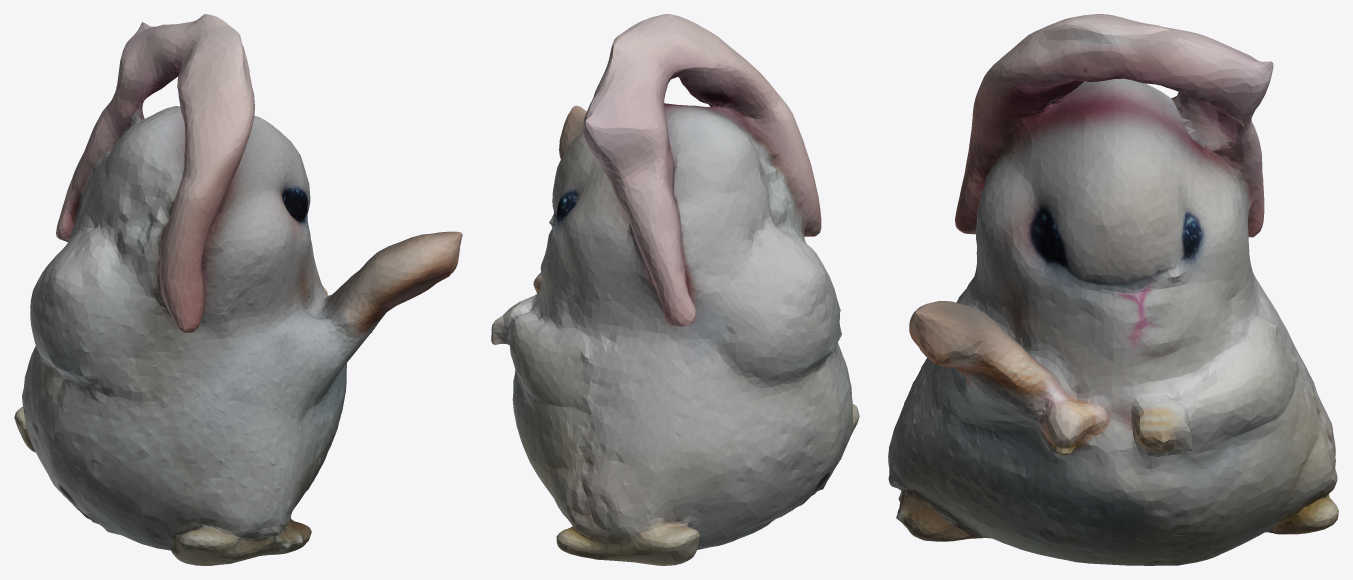
3 renders of one model, left to right at view 1: azimuth 30°, elevation 25°; view 2: azimuth 150°, elevation 25°; view 3: azimuth 270°, elevation 25°, orthographic. The views are drawn at different scales.
Visible parts, largest first — view 1: world; view 2: world; view 3: world.
Boxes of the visible parts, x1,y1,x2,y2 form: world: (14, 14, 462, 565); world: (491, 14, 859, 565); world: (888, 14, 1338, 565).
Size of the model in its own units: 0.7662 by 0.9981 by 0.7754.
Materials: 1 (1 with a texture image).
